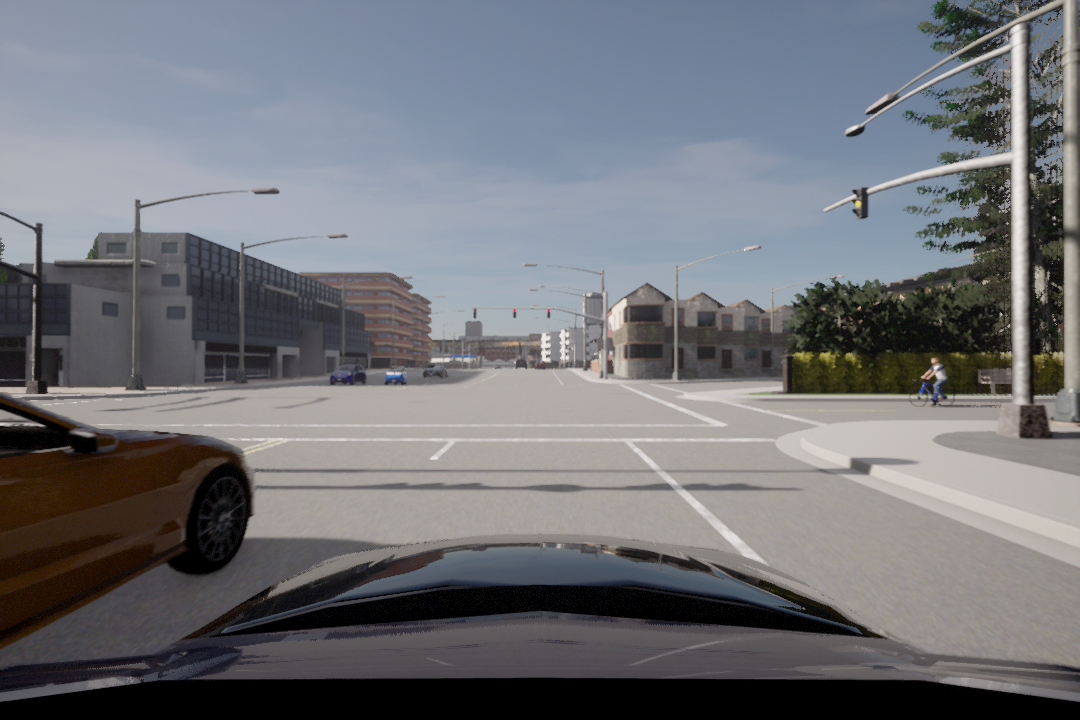TrafficLight: (851, 186, 872, 225)
